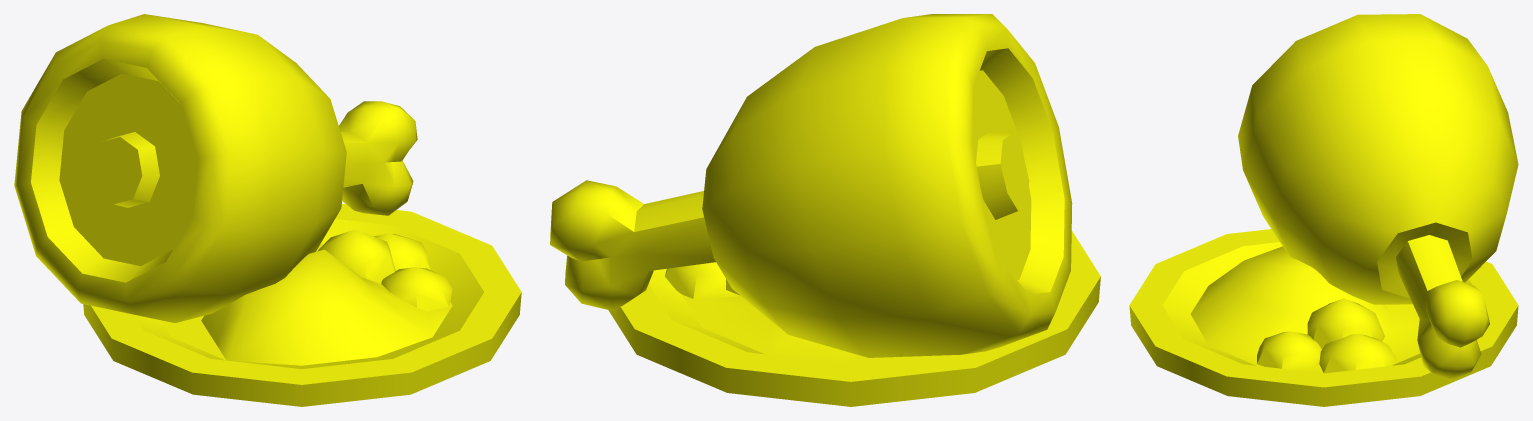
The model's file is kaykit-plate-food-a.glb.
3 renders of one model, left to right at view 1: azimuth 30°, elevation 25°; view 2: azimuth 150°, elevation 25°; view 3: azimuth 270°, elevation 25°, orthographic. The views are drawn at different scales.
Visible parts, largest first — view 1: plate_food_A; view 2: plate_food_A; view 3: plate_food_A.
Boxes of the visible parts, left/top/right/bottom form: plate_food_A: left=14, top=14, right=521, bottom=406; plate_food_A: left=550, top=14, right=1100, bottom=406; plate_food_A: left=1129, top=14, right=1518, bottom=406.
Bounding box in the file's own units: 1.02 × 0.7876 × 0.9705.
